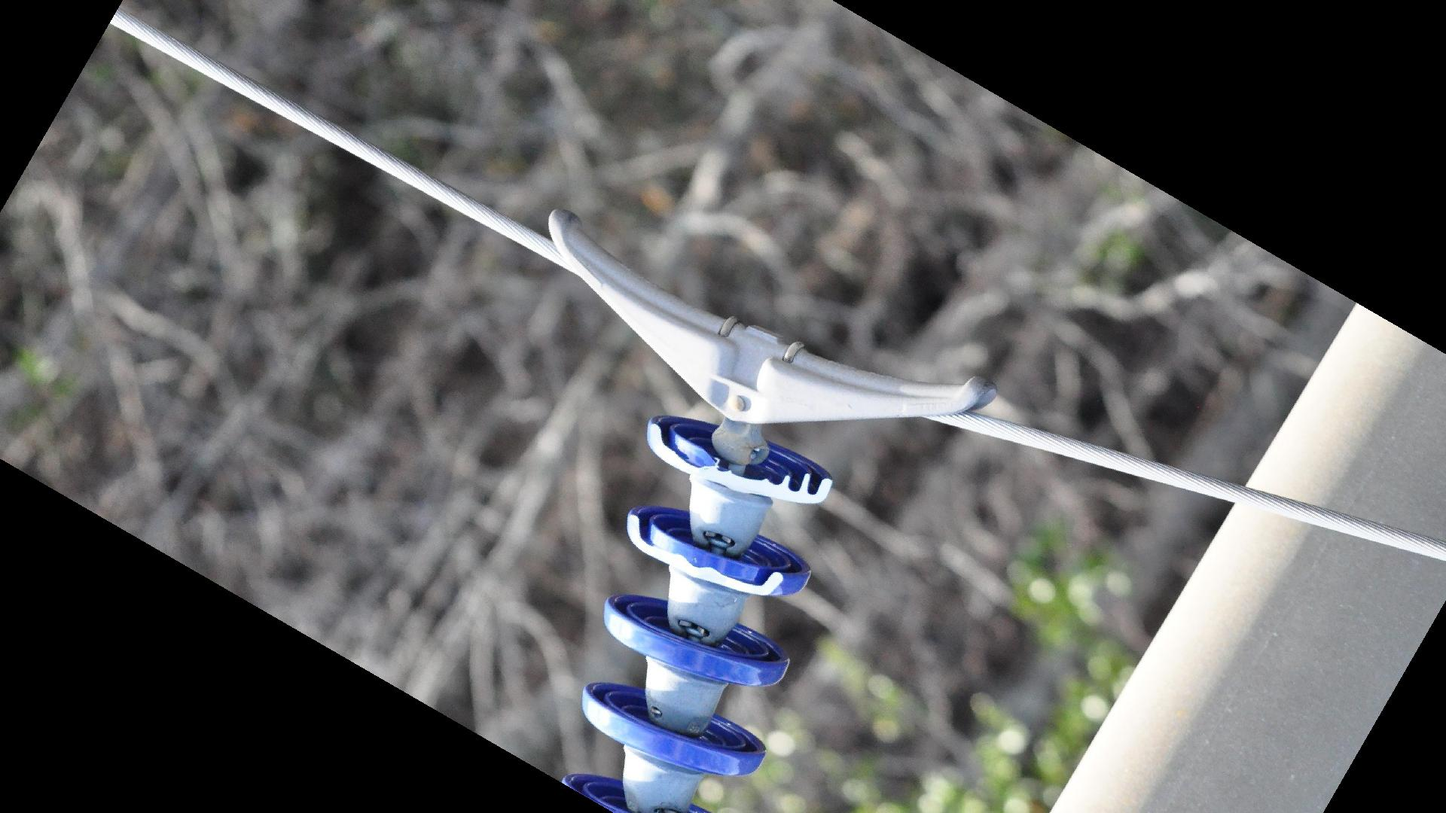insulator: (551, 407, 838, 813)
insulator_breakage: (642, 419, 837, 510), (620, 507, 792, 605)
